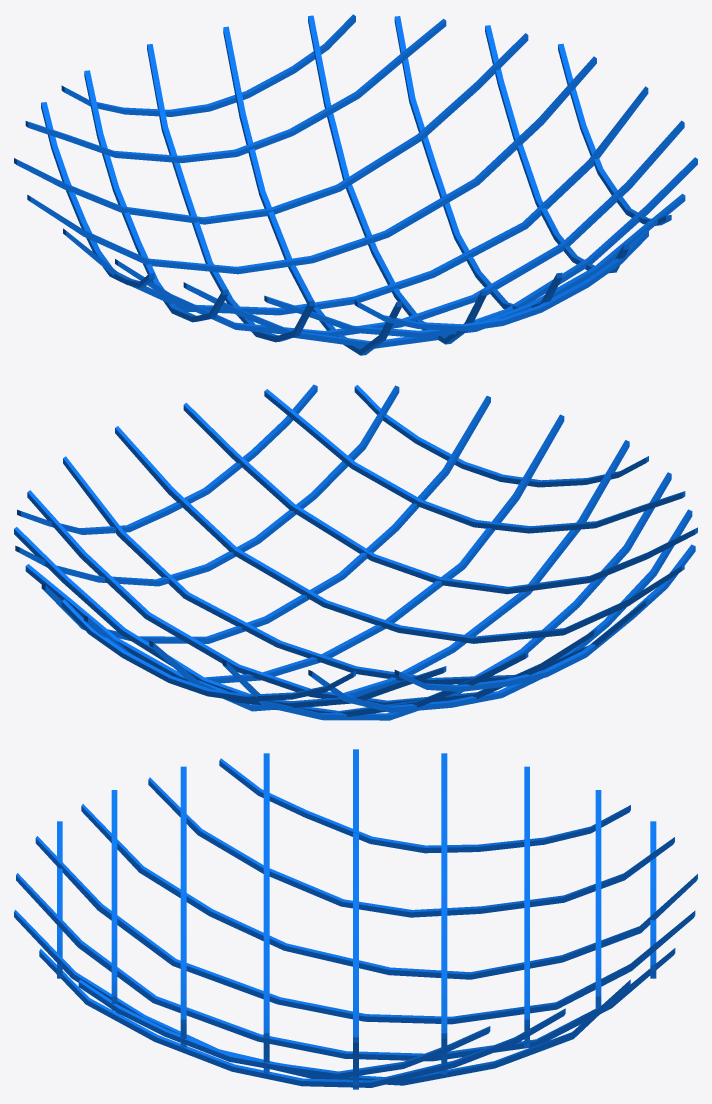
Rendered from ami.fbx.
3 renders of one model, top to bottom at view 1: azimuth 30°, elevation 25°; view 2: azimuth 150°, elevation 25°; view 3: azimuth 270°, elevation 25°, orthographic.
Parts seen in each view (by area): view 1: ami; view 2: ami; view 3: ami.
Part boxes in pixels (<box>): ami: <box>14,14,697,355</box>; ami: <box>14,384,697,720</box>; ami: <box>14,749,697,1089</box>.
Bounding box in the file's own units: 2644 × 627 × 2655.
